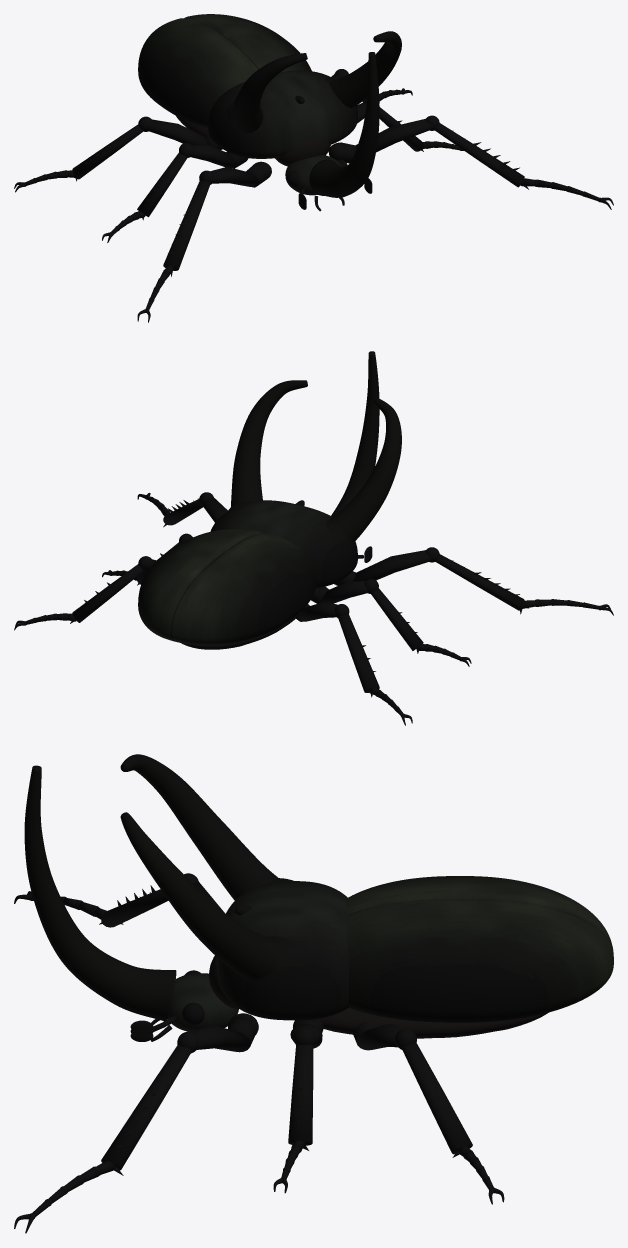
Rendered from bug_caucasus.glb.
3 renders of one model, top to bottom at view 1: azimuth 30°, elevation 25°; view 2: azimuth 150°, elevation 25°; view 3: azimuth 270°, elevation 25°, orthographic. The views are drawn at different scales.
Visible parts, largest first — view 1: shell, pronotum, horn_T_mesh, horn_mesh, leg_0_L_mesh, leg_0_R_mesh, leg_2_R_mesh, leg_1_R_mesh, under, leg_1_L_mesh, head_shell; view 2: shell, horn_T_mesh, pronotum, leg_0_R_mesh, horn_mesh, leg_1_R_mesh, leg_2_R_mesh, leg_2_L_mesh, leg_0_L_mesh, under; view 3: shell, horn_T_mesh, pronotum, horn_mesh, leg_0_L_mesh, leg_2_L_mesh, leg_1_L_mesh, under, head_shell, leg_0_R_mesh.
Part boxes in pixels (left/top/right/bottom): shell: left=138, top=14, right=311, bottom=127; pronotum: left=208, top=70, right=357, bottom=158; horn_T_mesh: left=227, top=31, right=401, bottom=133; horn_mesh: left=309, top=52, right=379, bottom=197; leg_0_L_mesh: left=328, top=115, right=613, bottom=209; leg_0_R_mesh: left=137, top=161, right=271, bottom=322; leg_2_R_mesh: left=14, top=116, right=222, bottom=192; leg_1_R_mesh: left=102, top=142, right=248, bottom=242; under: left=176, top=116, right=330, bottom=166; leg_1_L_mesh: left=357, top=99, right=463, bottom=151; head_shell: left=285, top=155, right=341, bottom=195; shell: left=138, top=529, right=315, bottom=645; horn_T_mesh: left=228, top=380, right=401, bottom=541; pronotum: left=210, top=500, right=357, bottom=587; leg_0_R_mesh: left=334, top=547, right=613, bottom=615; horn_mesh: left=331, top=351, right=379, bottom=516; leg_1_R_mesh: left=311, top=578, right=471, bottom=666; leg_2_R_mesh: left=296, top=602, right=412, bottom=725; leg_2_L_mesh: left=14, top=556, right=156, bottom=630; leg_0_L_mesh: left=137, top=492, right=227, bottom=527; under: left=181, top=611, right=301, bottom=649; shell: left=346, top=876, right=613, bottom=1022; horn_T_mesh: left=120, top=754, right=294, bottom=980; pronotum: left=216, top=881, right=348, bottom=1020; horn_mesh: left=24, top=765, right=176, bottom=1021; leg_0_L_mesh: left=14, top=1013, right=258, bottom=1233; leg_2_L_mesh: left=352, top=1022, right=504, bottom=1204; leg_1_L_mesh: left=273, top=1018, right=323, bottom=1193; under: left=209, top=955, right=548, bottom=1038; head_shell: left=167, top=973, right=238, bottom=1031; leg_0_R_mesh: left=14, top=873, right=224, bottom=927.
Size of the model in its own units: 2.07 by 0.8644 by 1.57.
Materials: 6 (2 with a texture image).
